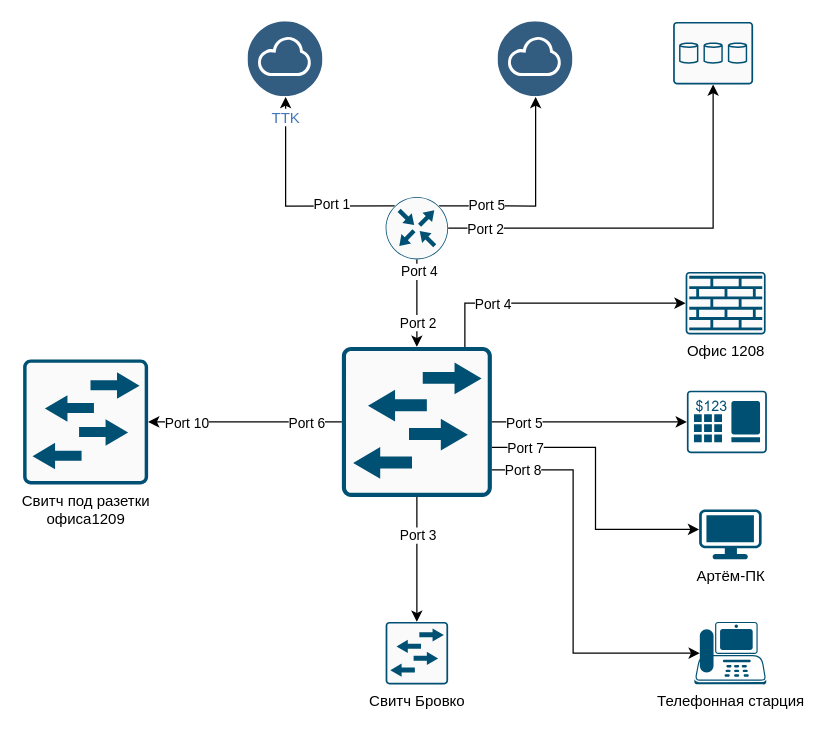
Some shapes in this 825 by 733 pixel diagram are drawn without their labels. The shapes that lost their labels are listed below. From the top down, each one's box as (x1, y1, x2, y2) in pixels, then its label:
(498, 21, 572, 96): NTK
(672, 21, 753, 84): Pluton-new
(686, 390, 766, 452): Касса
